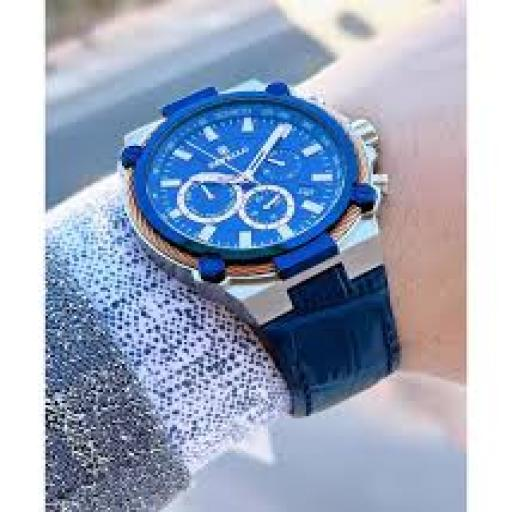KolSaati: (83, 45, 424, 405)
